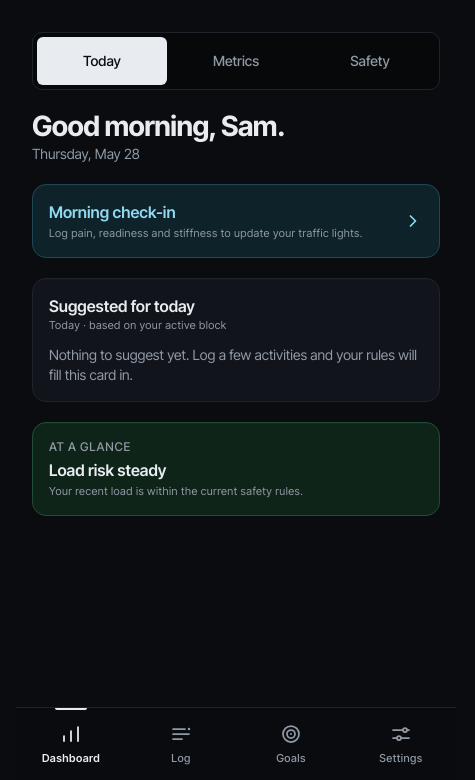
Test case: BlockReviewScreen route wiring › shows an error state when the previous-block review request fails
Click the button "Settings".
click(401, 744)  # box [346, 708, 456, 779]
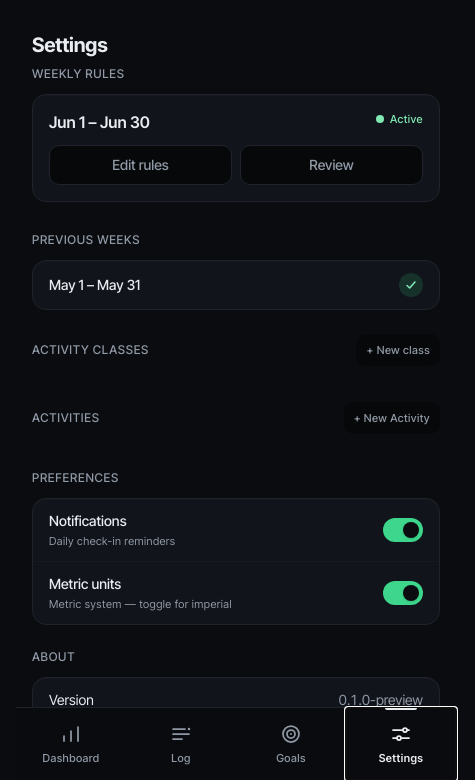
Click the button "May 1 – May 31".
click(95, 284)  # box [33, 261, 439, 309]
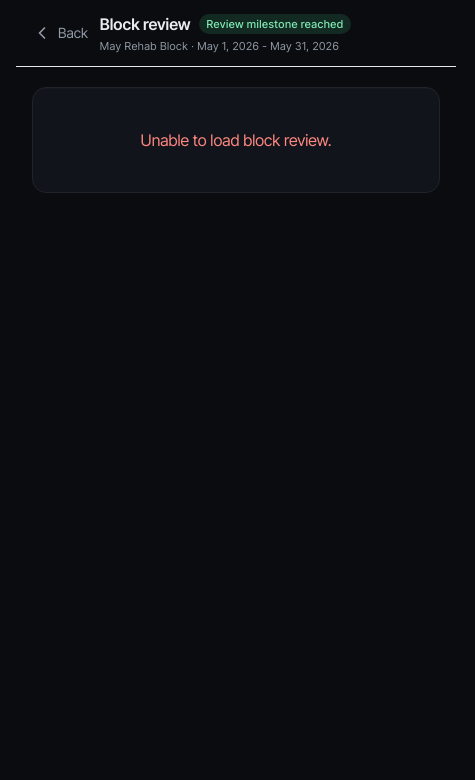
Now the message shows "Unable to load block review", box [140, 130, 332, 150]
